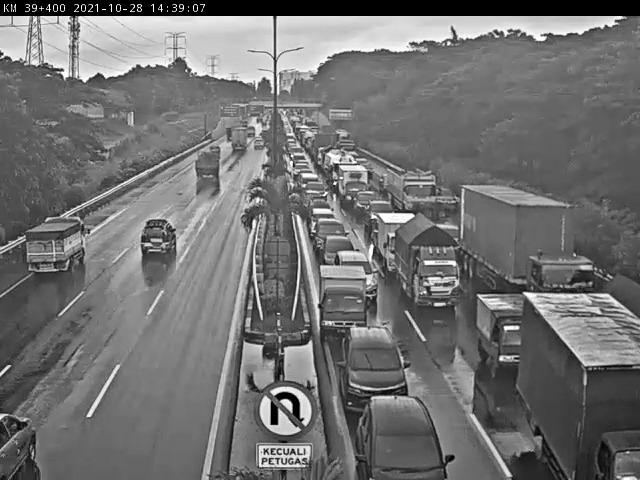big truck: (512, 277, 640, 480), (454, 182, 601, 311), (383, 158, 442, 217)
car: (351, 391, 455, 480), (338, 319, 413, 406), (0, 399, 44, 480), (333, 243, 380, 309), (139, 218, 181, 262), (313, 217, 352, 257), (363, 199, 399, 232), (305, 206, 338, 240), (324, 235, 362, 264), (354, 188, 381, 219), (303, 181, 330, 206), (307, 195, 334, 218), (298, 171, 321, 192), (292, 159, 311, 179), (252, 137, 264, 152), (207, 144, 220, 157)
small truck: (390, 212, 463, 312), (466, 282, 535, 372), (13, 211, 87, 284), (317, 262, 369, 338), (375, 209, 426, 271), (334, 159, 370, 205), (192, 150, 225, 182), (229, 126, 250, 149)
